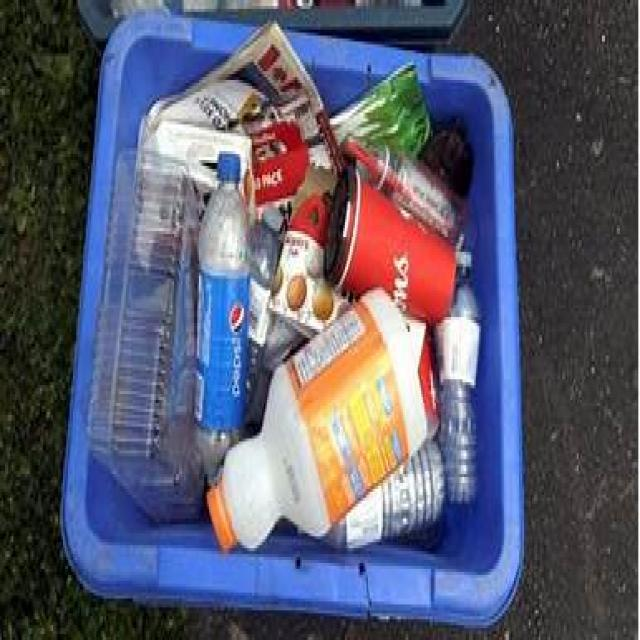Garbage: (61, 16, 524, 627)
Glass_bottle: (195, 152, 249, 481)
Plastic_Container: (90, 145, 204, 520)
Plastic_bottle: (209, 290, 428, 548)
